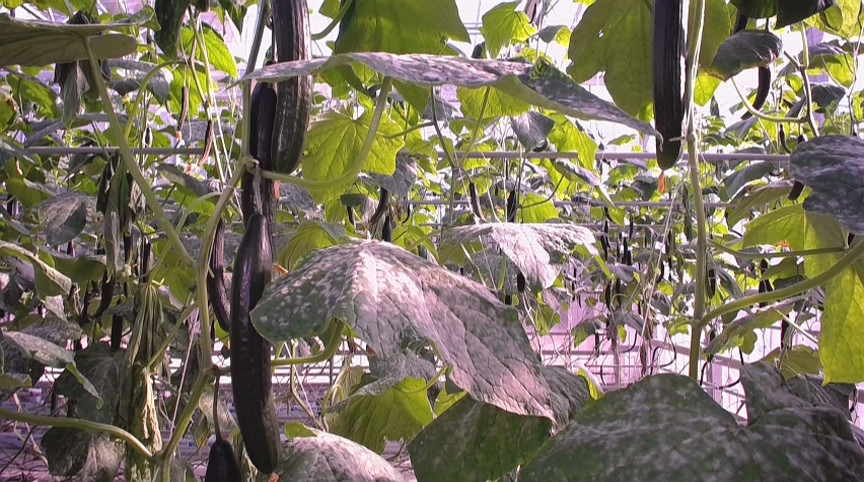cucumber: (231, 216, 281, 472), (273, 1, 312, 173), (654, 1, 691, 170), (206, 216, 231, 330), (204, 440, 241, 482)
